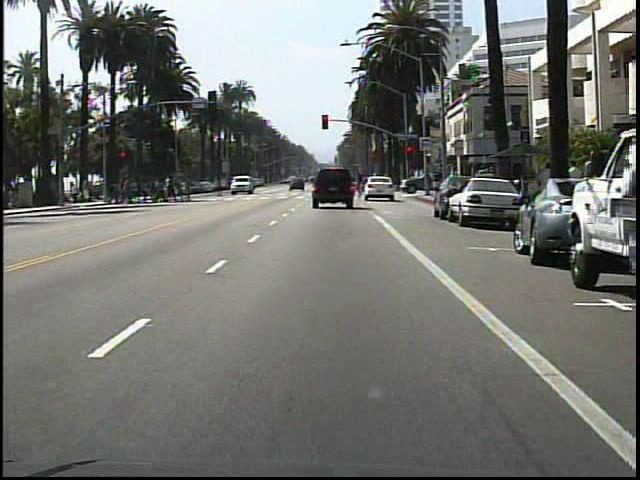person: (538, 155, 558, 218), (563, 155, 583, 212), (211, 172, 230, 201)
